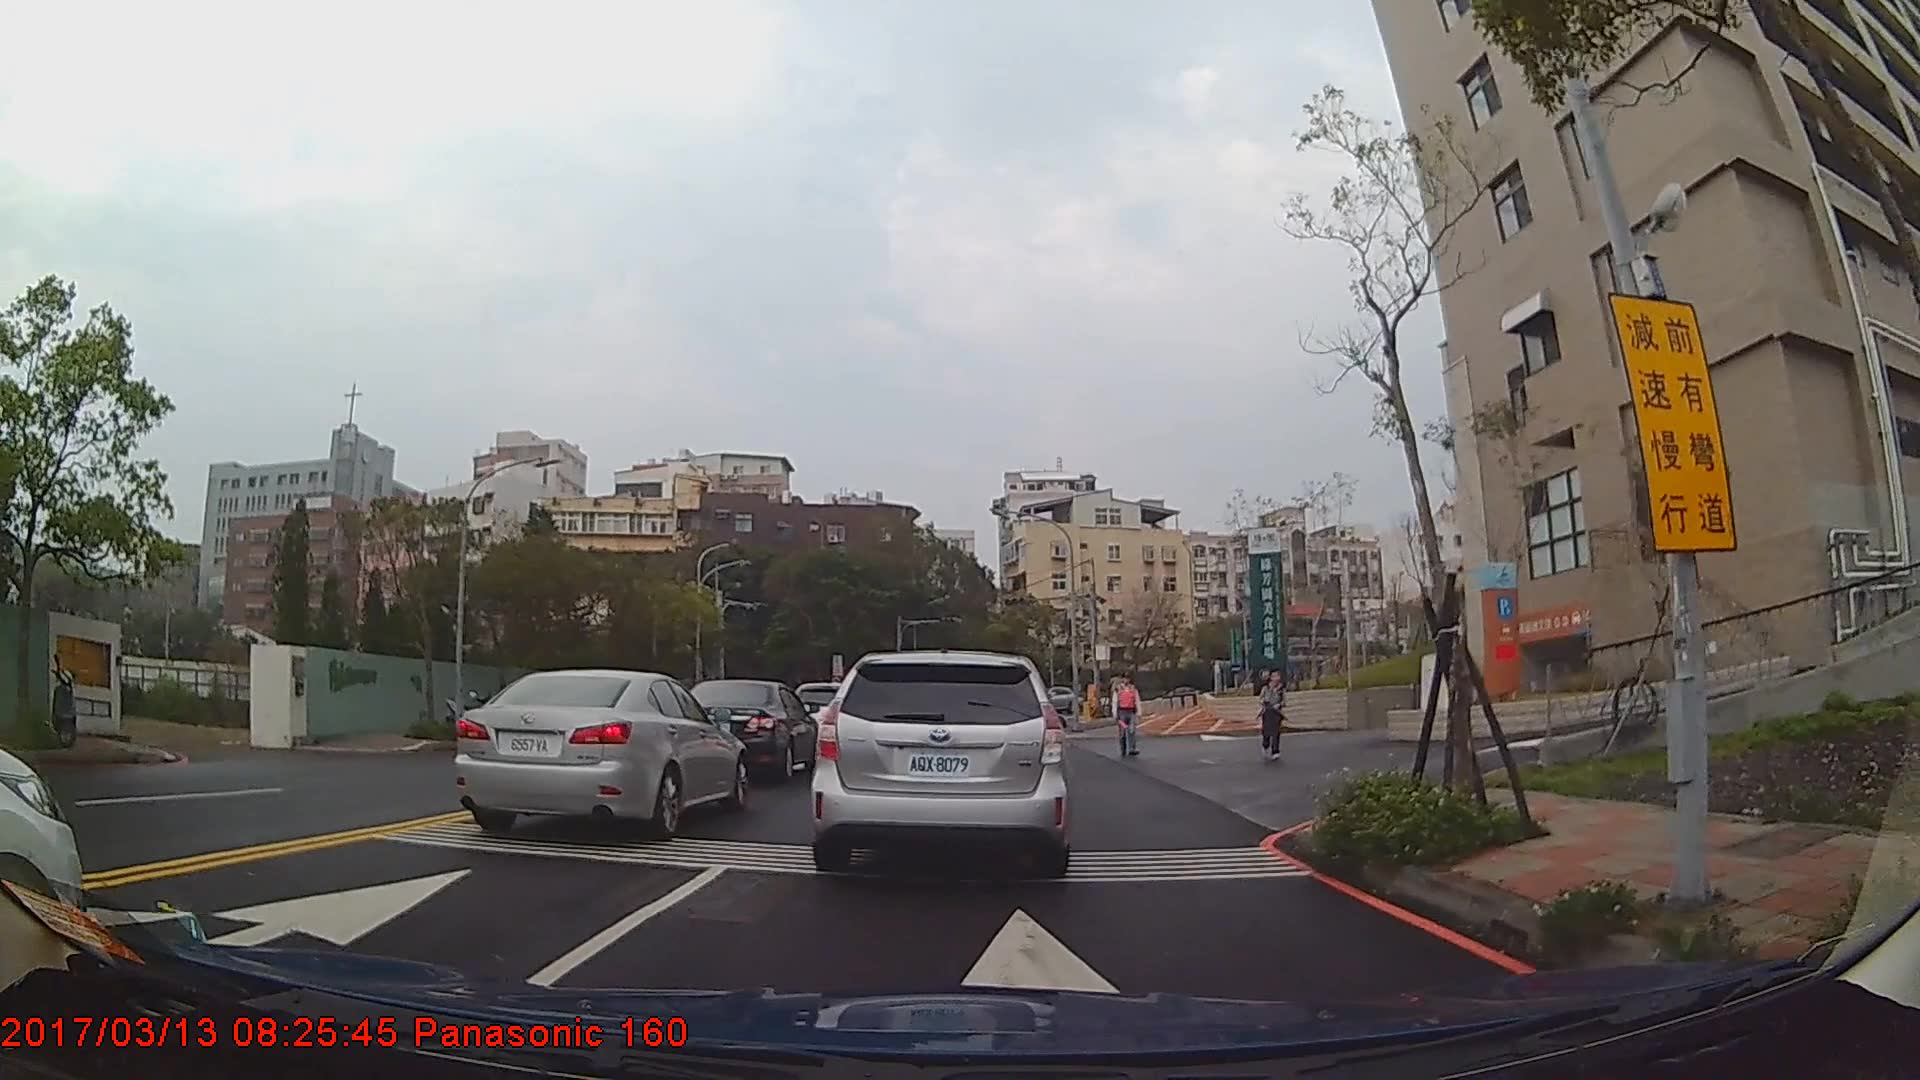pedestrian: (1112, 672, 1143, 761), (1259, 667, 1287, 763)
vehicle: (809, 649, 1073, 880), (452, 667, 746, 838), (673, 677, 817, 782)
